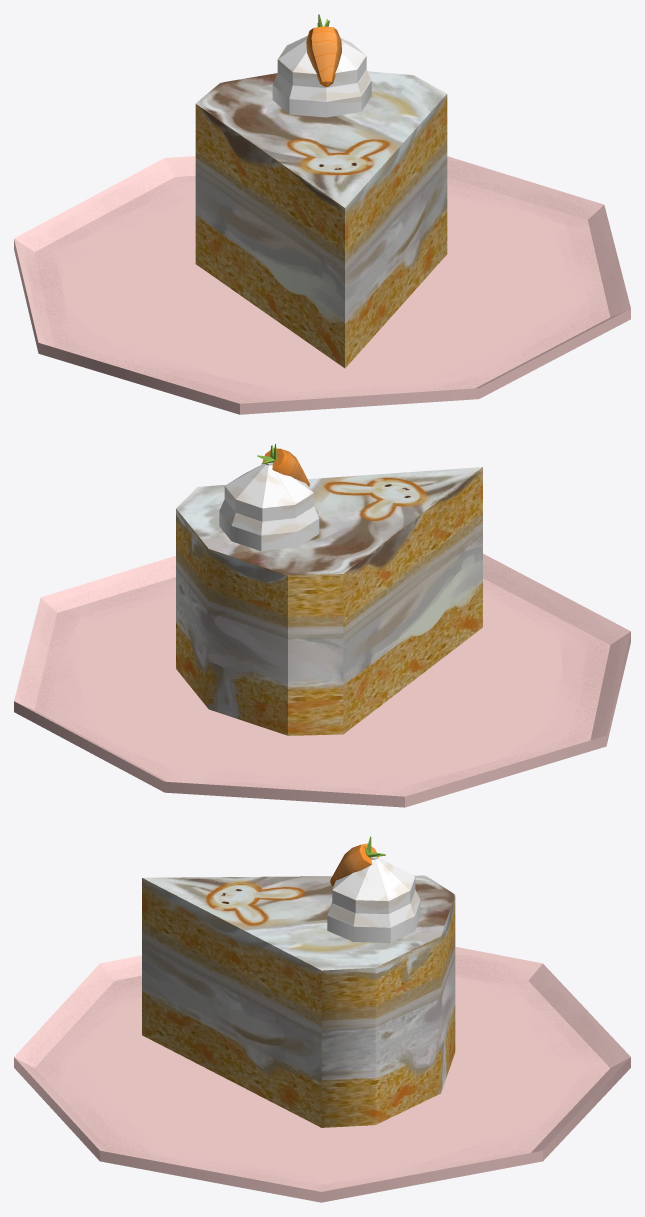
File: CarrotCake.fbx
The picture shows the model from 3 angles, top to bottom: view 1: azimuth 30°, elevation 25°; view 2: azimuth 150°, elevation 25°; view 3: azimuth 270°, elevation 25°; orthographic projection.
Parts seen in each view (by area): view 1: PlatoRedondo1, Tarta, NataTarta, Zanahoria; view 2: PlatoRedondo1, Tarta, NataTarta, Zanahoria; view 3: PlatoRedondo1, Tarta, NataTarta, Zanahoria.
Boxes of the visible parts, <box> form: PlatoRedondo1: <box>14,156,630,414</box>; Tarta: <box>195,71,447,368</box>; NataTarta: <box>272,35,371,117</box>; Zanahoria: <box>306,14,341,86</box>; PlatoRedondo1: <box>14,553,630,807</box>; Tarta: <box>176,467,482,735</box>; NataTarta: <box>219,462,319,551</box>; Zanahoria: <box>257,443,309,486</box>; PlatoRedondo1: <box>14,946,630,1202</box>; Tarta: <box>142,875,455,1127</box>; NataTarta: <box>327,856,420,942</box>; Zanahoria: <box>330,836,385,886</box>.
Size of the model in its own units: 2.48 by 1.08 by 2.39.
